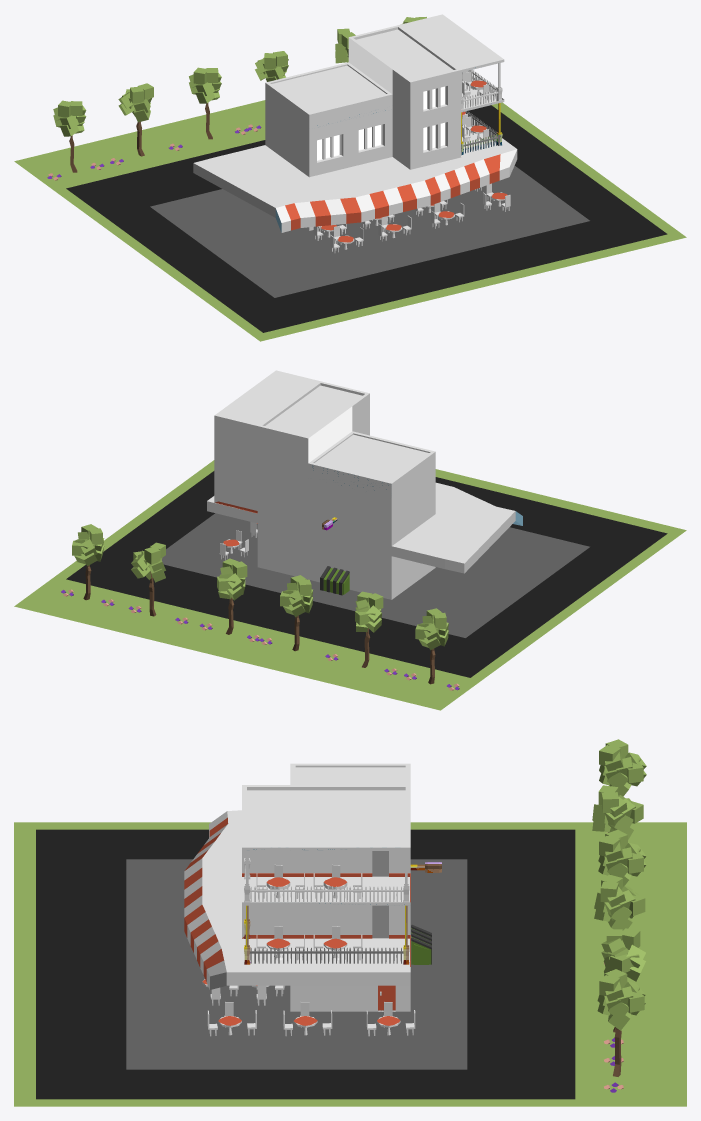
Rendered from rest.glb.
3 renders of one model, top to bottom at view 1: azimuth 30°, elevation 25°; view 2: azimuth 150°, elevation 25°; view 3: azimuth 270°, elevation 25°, orthographic. The views are drawn at different scales.
Parts seen in each view (by area): view 1: Cube.015; view 2: Cube.015; view 3: Cube.015.
Part boxes in pixels (x1,y1,x2,y2): Cube.015: [14, 14, 686, 341]; Cube.015: [14, 370, 686, 710]; Cube.015: [14, 739, 686, 1106].
Size of the model in its own units: 16.54 by 5.32 by 16.54.
Materials: 2 (1 with a texture image).
